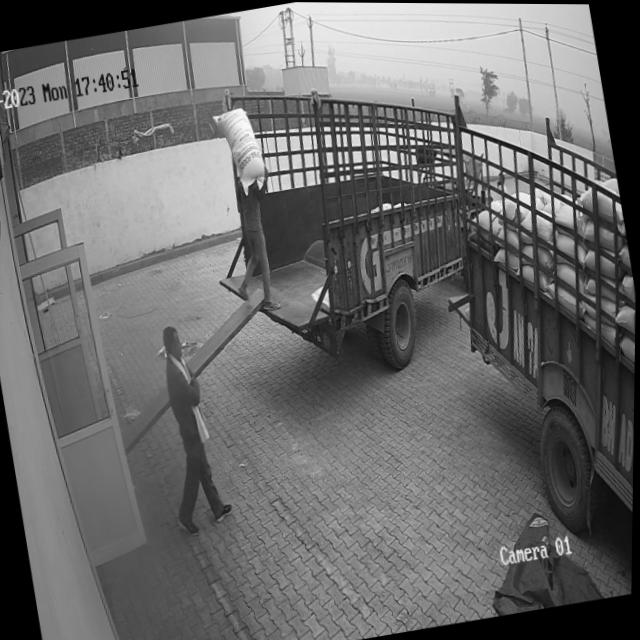sack: (211, 106, 269, 198)
